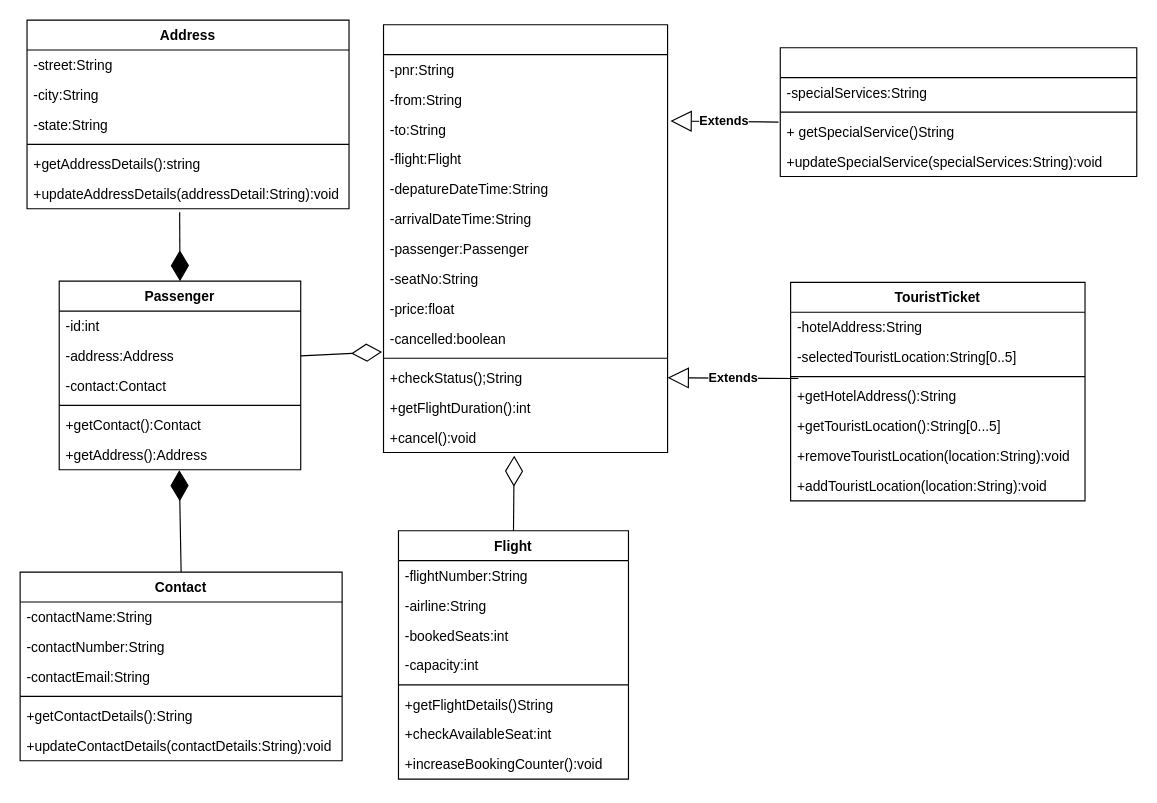
Image size: 1157x803. Some labels were removed from this diagram. Here are the shapes that lost their labels. From the top down, the box of each, then its label:
(779, 47, 1137, 177): RegularTicket
(382, 24, 668, 453): Ticket
